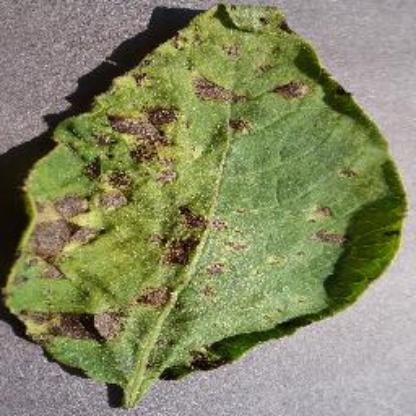Early-Blight: (6, 3, 404, 410)
